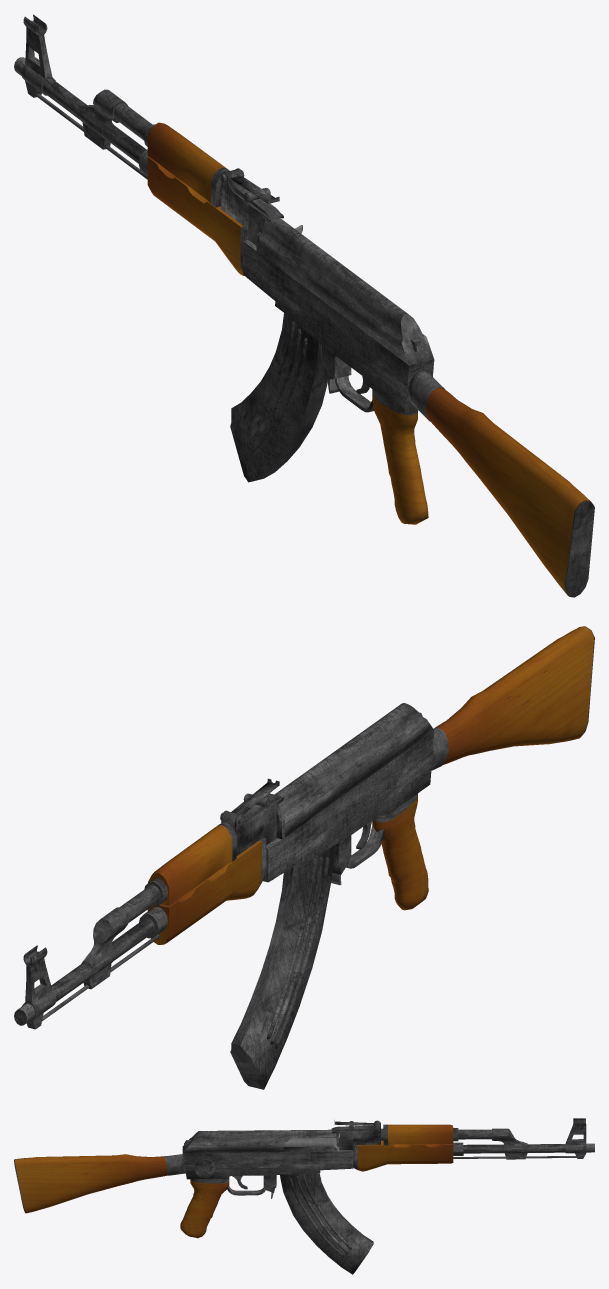
The model's file is ak47_world.fbx.
3 renders of one model, top to bottom at view 1: azimuth 30°, elevation 25°; view 2: azimuth 150°, elevation 25°; view 3: azimuth 270°, elevation 25°, orthographic. The views are drawn at different scales.
Parts seen in each view (by area): view 1: ak47_stock, ak47_magazine, ak47_upperbody, ak47_lowerbody, ak47_grip, ak47_barrel, ak47_pistolgrip, ak47_stockmetal, ak47_sightblock, ak47_frontsight; view 2: ak47_stock, ak47_magazine, ak47_lowerbody, ak47_upperbody, ak47_grip, ak47_barrel, ak47_pistolgrip, ak47_sightblock, ak47_frontsight, ak47_stockmetal, ak47_triggerguard; view 3: ak47_stock, ak47_magazine, ak47_lowerbody, ak47_grip, ak47_upperbody, ak47_barrel, ak47_pistolgrip, ak47_sightblock, ak47_frontsight, ak47_selector, ak47_bolt, ak47_stockmetal (+1 smaller).
Part boxes in pixels (bbox=[...]): ak47_stock: bbox=[425, 388, 593, 595]; ak47_magazine: bbox=[230, 313, 327, 482]; ak47_upperbody: bbox=[256, 217, 434, 365]; ak47_lowerbody: bbox=[243, 240, 434, 415]; ak47_grip: bbox=[147, 122, 244, 275]; ak47_barrel: bbox=[14, 57, 154, 179]; ak47_pistolgrip: bbox=[372, 394, 428, 524]; ak47_stockmetal: bbox=[408, 370, 594, 597]; ak47_sightblock: bbox=[220, 168, 283, 245]; ak47_frontsight: bbox=[21, 14, 55, 95]; ak47_stock: bbox=[434, 626, 594, 765]; ak47_magazine: bbox=[230, 845, 334, 1089]; ak47_lowerbody: bbox=[263, 731, 434, 882]; ak47_upperbody: bbox=[274, 703, 434, 839]; ak47_grip: bbox=[147, 825, 261, 944]; ak47_barrel: bbox=[14, 878, 167, 1029]; ak47_pistolgrip: bbox=[372, 795, 428, 910]; ak47_sightblock: bbox=[220, 793, 283, 855]; ak47_frontsight: bbox=[22, 945, 56, 1020]; ak47_stockmetal: bbox=[431, 627, 594, 770]; ak47_triggerguard: bbox=[346, 826, 384, 868]; ak47_stock: bbox=[15, 1154, 168, 1213]; ak47_magazine: bbox=[280, 1173, 373, 1274]; ak47_lowerbody: bbox=[182, 1150, 353, 1183]; ak47_grip: bbox=[357, 1124, 453, 1171]; ak47_upperbody: bbox=[182, 1129, 339, 1152]; ak47_barrel: bbox=[453, 1128, 594, 1159]; ak47_pistolgrip: bbox=[180, 1180, 229, 1238]; ak47_sightblock: bbox=[331, 1120, 380, 1150]; ak47_frontsight: bbox=[565, 1118, 586, 1153]; ak47_selector: bbox=[216, 1155, 279, 1168]; ak47_bolt: bbox=[284, 1138, 339, 1151]; ak47_stockmetal: bbox=[14, 1154, 185, 1213].
Bounding box in the file's own units: 2.24 × 14.01 × 48.01.
